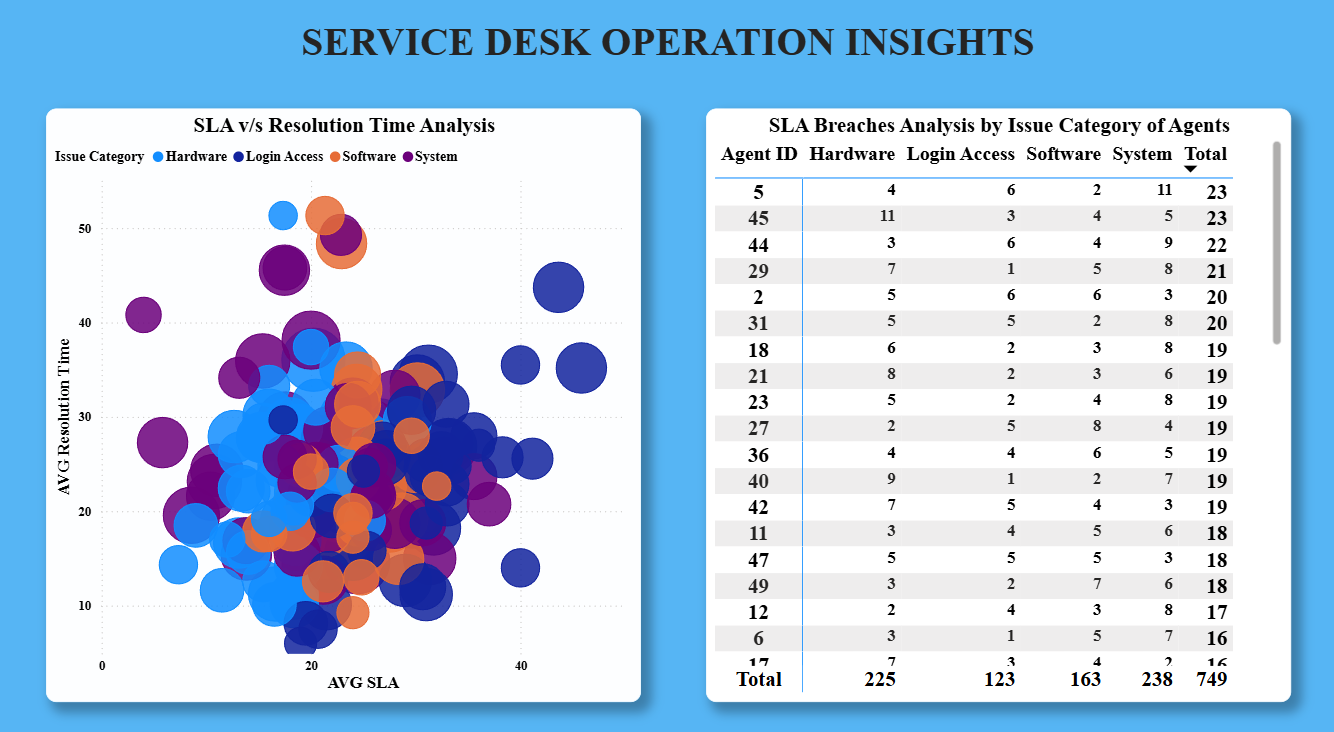

Layout of this report page (visuals, bound fields, positions):
{"tool":"powerbi","page":{"name":"Service Desk Operation Insights","canvas":[1280,720],"ordinal":1},"visuals":[{"type":"scatterChart","title":"SLA v/s Resolution Time Analysis","fields":{"X":["Avg(ticket_data.SLA)"],"Y":["Avg(ticket_data.Resolution_time)"],"Series":["ticket_data.Issue_Category"],"Size":["CountNonNull(ticket_data.Ticket_id)"],"Category":["Agent_Data.Agent ID"]},"box":[49.1,107.7,566.9,565],"z":0},{"type":"pivotTable","title":"SLA Breaches Analysis by Issue Category of Agents","fields":{"Rows":["Agent_Data.Agent ID"],"Columns":["ticket_data.Issue_Category"],"Values":["ticket_data.SLA Breach Tickets"]},"box":[676.5,107.7,557.5,565],"z":1000},{"type":"textbox","box":[49.1,17,1184.9,90.7],"z":2000}]}

Visuals, with their boxes in screenshot pixels (x1, y1, x2, y2), scaled from the page's 1280x720 canvas onto the 1334x732 screenshot:
"SLA v/s Resolution Time Analysis" scatterChart: Rect(51, 109, 642, 684)
"SLA Breaches Analysis by Issue Category of Agents" pivotTable: Rect(705, 109, 1286, 684)
textbox: Rect(51, 17, 1286, 109)
